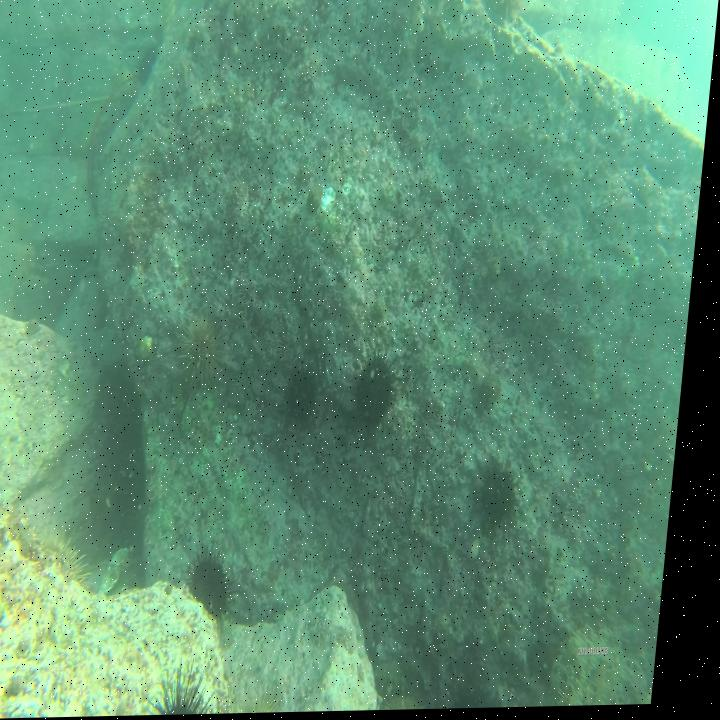echinus: (192, 541, 255, 635), (359, 345, 412, 438), (181, 315, 236, 394), (482, 457, 538, 534), (160, 658, 233, 716), (47, 533, 109, 601), (288, 362, 327, 425), (251, 687, 297, 715)
